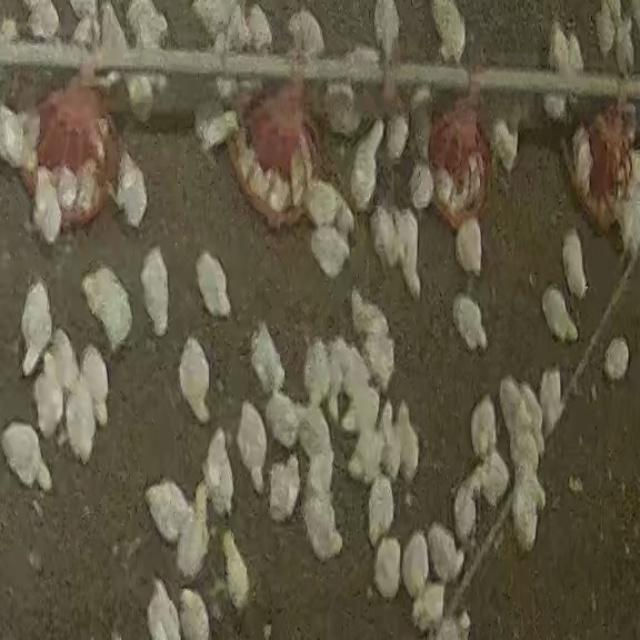chicken: (81, 265, 135, 350), (0, 420, 54, 494), (18, 276, 55, 378), (175, 334, 215, 424), (109, 150, 149, 232), (351, 118, 385, 210), (205, 428, 239, 518), (28, 164, 65, 246), (140, 243, 172, 337), (220, 528, 253, 614), (196, 247, 233, 320), (558, 223, 592, 299), (452, 289, 491, 354), (306, 224, 352, 279), (540, 284, 580, 345), (452, 219, 488, 276), (468, 393, 499, 459), (373, 536, 402, 602), (604, 333, 632, 384)
